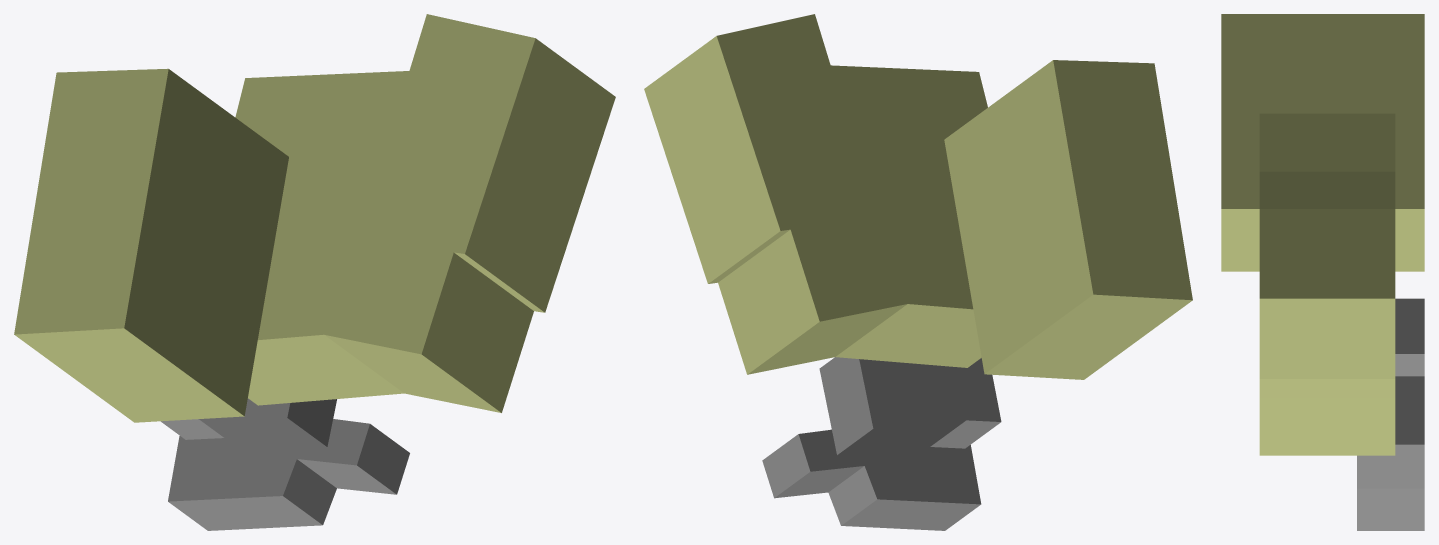
3 renders of one model, left to right at view 1: azimuth 30°, elevation 25°; view 2: azimuth 150°, elevation 25°; view 3: azimuth 270°, elevation 25°, orthographic. The views are drawn at different scales.
Visible parts, largest first — view 1: 0_1_0_0_1_3_1_2_2_0; view 2: 0_1_0_0_1_3_1_2_2_0; view 3: 0_1_0_0_1_3_1_2_2_0.
Boxes of the visible parts, <box> form: 0_1_0_0_1_3_1_2_2_0: <box>14,14,615,530</box>; 0_1_0_0_1_3_1_2_2_0: <box>644,14,1192,530</box>; 0_1_0_0_1_3_1_2_2_0: <box>1221,14,1424,530</box>.
Size of the model in its own units: 21.75 by 19.73 by 9.
